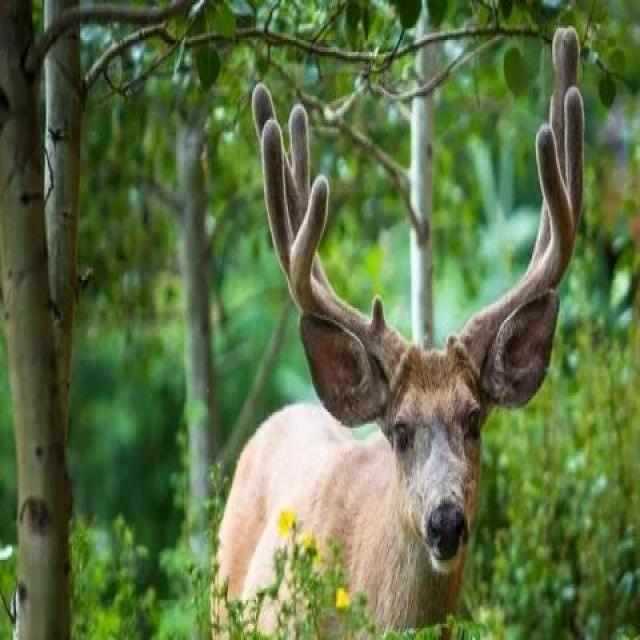deer: (150, 17, 543, 640)
